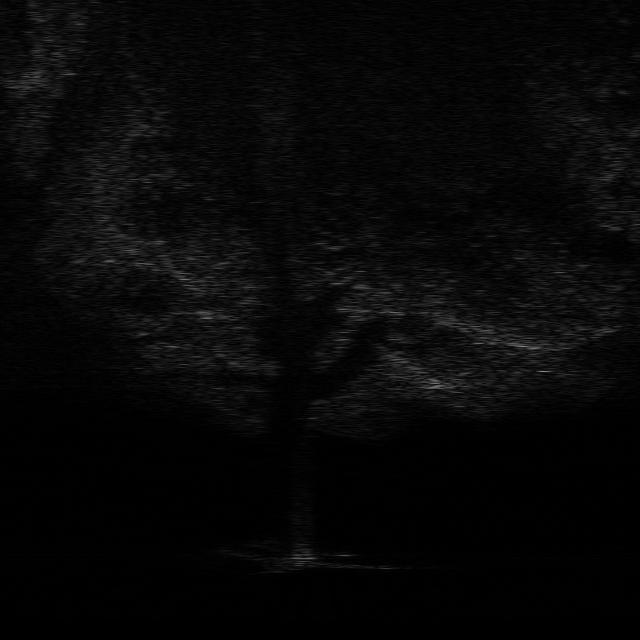plane: (221, 540, 399, 577)
